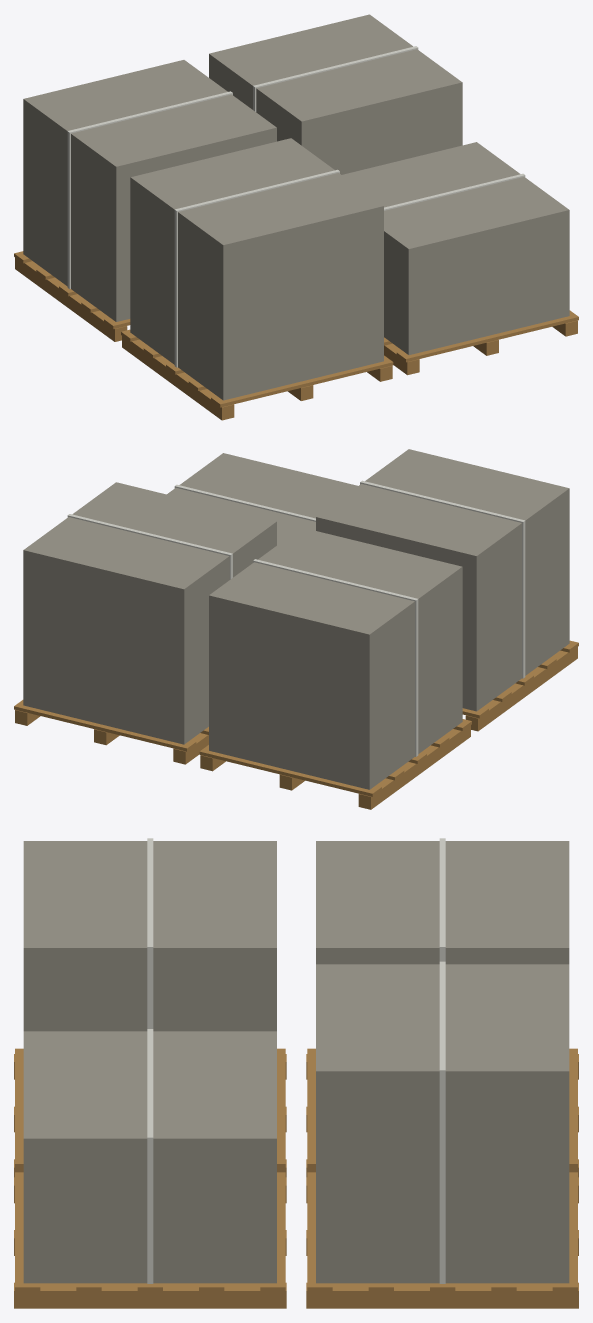
File: gs-block-stack.glb
The picture shows the model from 3 angles, top to bottom: view 1: azimuth 30°, elevation 25°; view 2: azimuth 150°, elevation 25°; view 3: azimuth 270°, elevation 25°; orthographic projection. The views are drawn at different scales.
Visible parts, largest first — view 1: gs-block-stack; view 2: gs-block-stack; view 3: gs-block-stack.
Boxes of the visible parts, x1,y1,x2,y2 form: gs-block-stack: [14, 14, 578, 420]; gs-block-stack: [14, 449, 578, 809]; gs-block-stack: [14, 838, 578, 1308].
Size of the model in its own units: 2.9 by 1.34 by 2.9.
